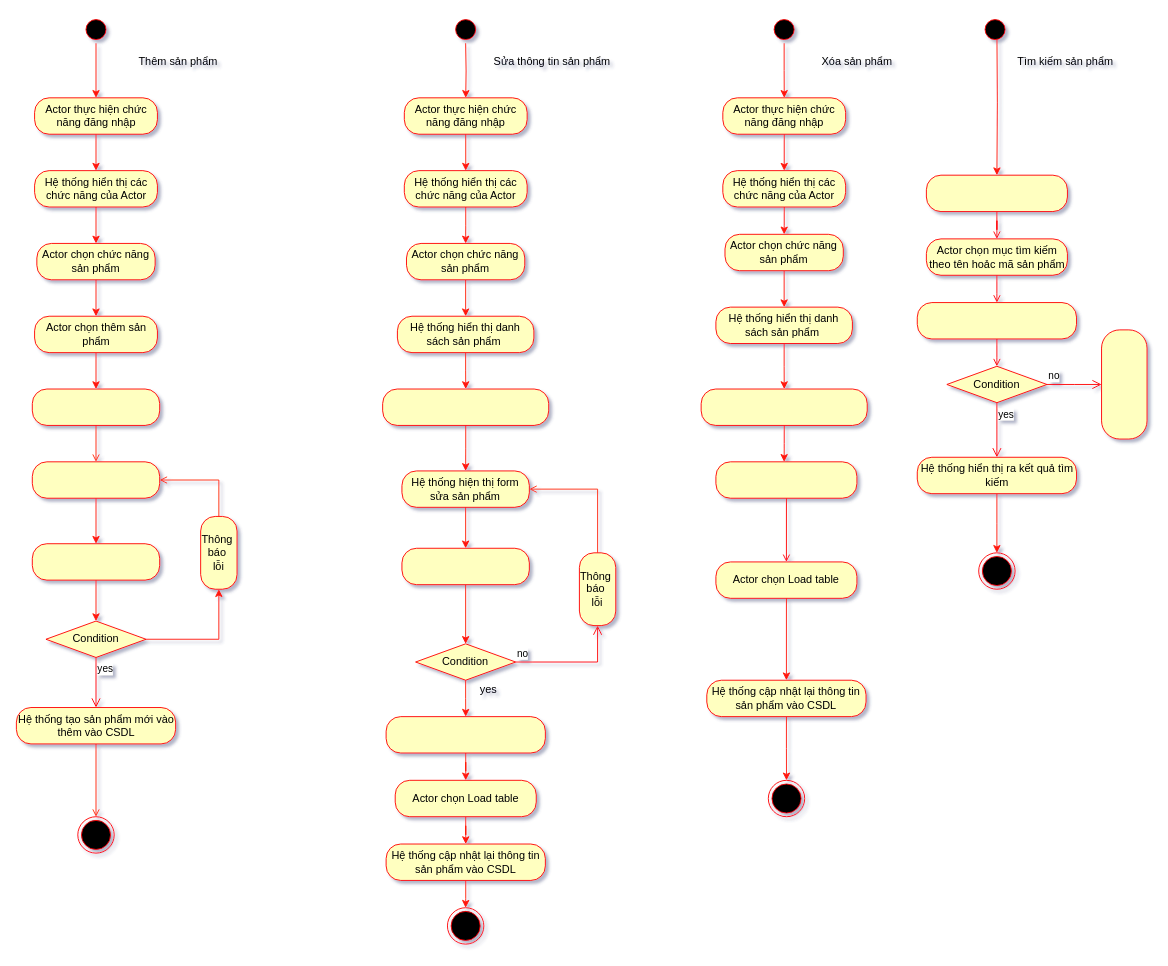
Some shapes in this 1168 by 966 pixel diagram are drawn without their labels. Each missing label, with the centre of its shape:
"Actor chọn sửa sản phẩm ở sản phẩm muốn sửa" goes at point (465, 406).
"Actor chọn xác nhận" goes at point (95, 561).
"Actor chọn xóa sản phẩm ở sản phẩm muốn xóa" goes at point (783, 406).
"Actor nhập thông tin sửa sản phẩm" goes at point (465, 566).
"Actor nhập thông tin thêm sản phẩm" goes at point (95, 479).
"Actor nhập tên hoặc mã số sản phẩm vào ô tìm kiếm" goes at point (996, 193).
"Hệ thống hiển thị thông báo thêm thành công" goes at point (465, 734).
"Hệ thống hiển thị xóa thành công" goes at point (786, 479).
"Hệ thống hiện thị form thêm sản phẩm" goes at point (95, 406).
"Hệ thống không hiển thị sản phẩm" goes at point (1124, 384).
"Hệ thống sẽ tìm kiếm đúng hoặc gần đúng thông tin Actor nhập" goes at point (996, 320).
